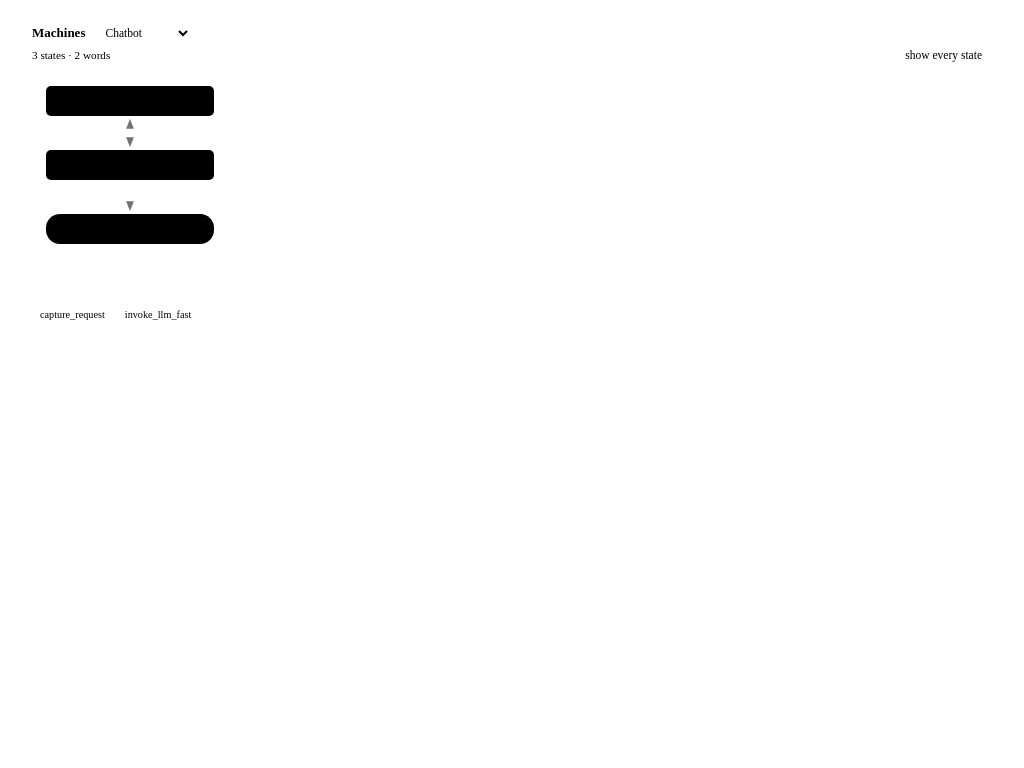
Test: machine view panel › draws a flat machine as declared, with its words
Click the button with test id "tool-tag" showing "invoke_llm_fast": [158, 314] box [117,308,199,321]
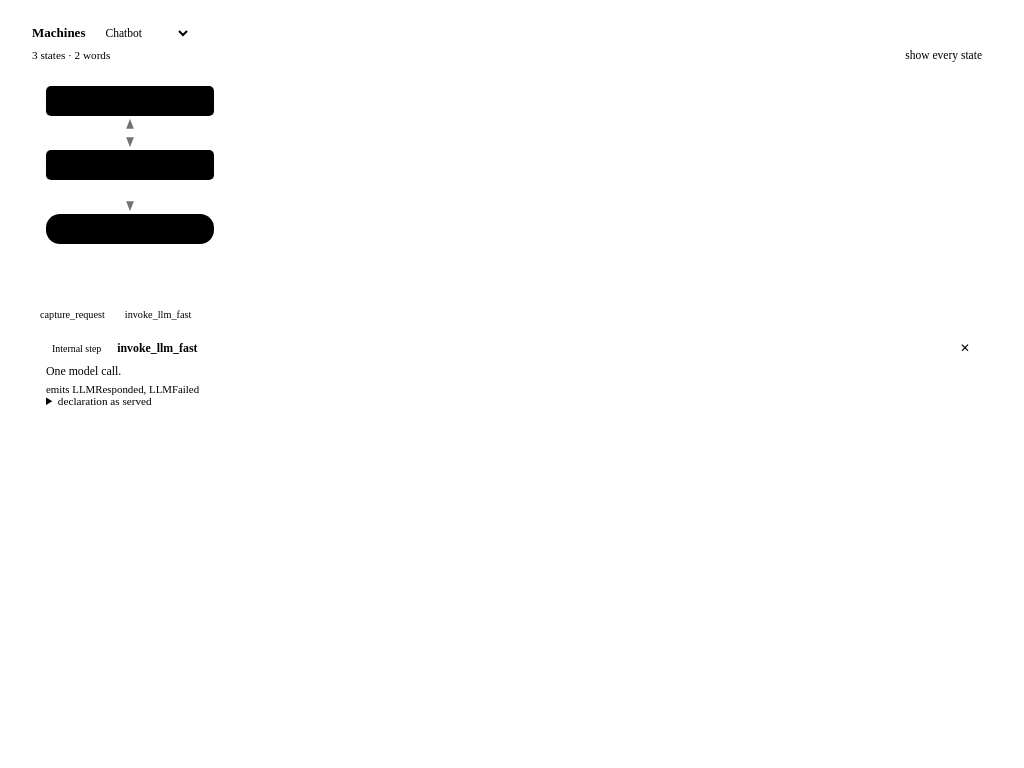
Expected: the text "emits LLMResponded, LLMFailed" is shown, [46,383,199,395]
